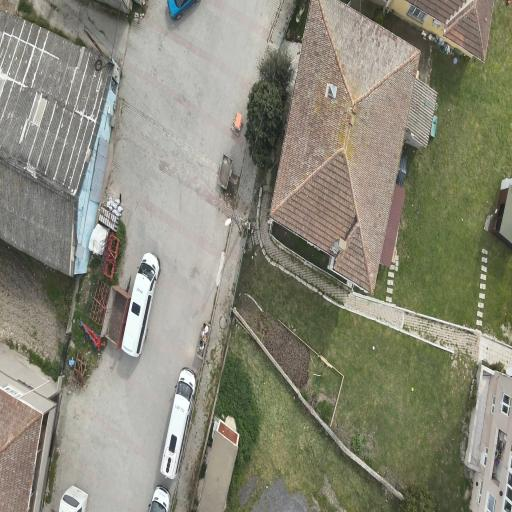car: (122, 253, 159, 356), (161, 368, 195, 479), (59, 486, 87, 511), (168, 0, 199, 20), (149, 486, 170, 511)
